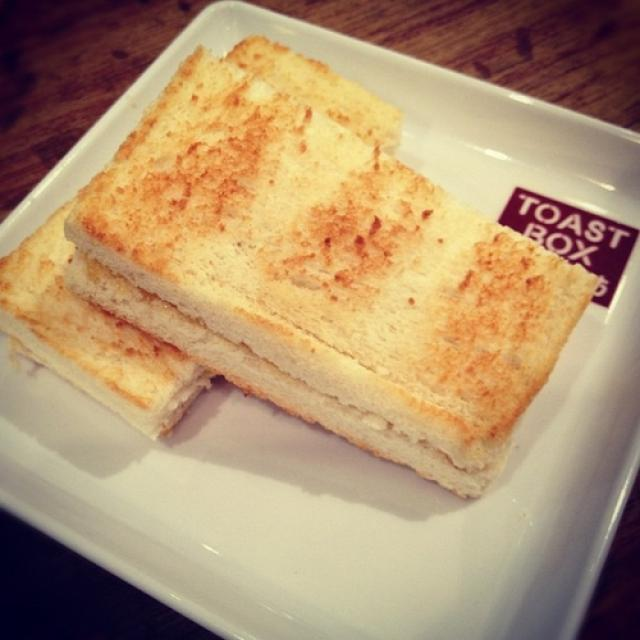面包点心: (36, 10, 595, 616)
